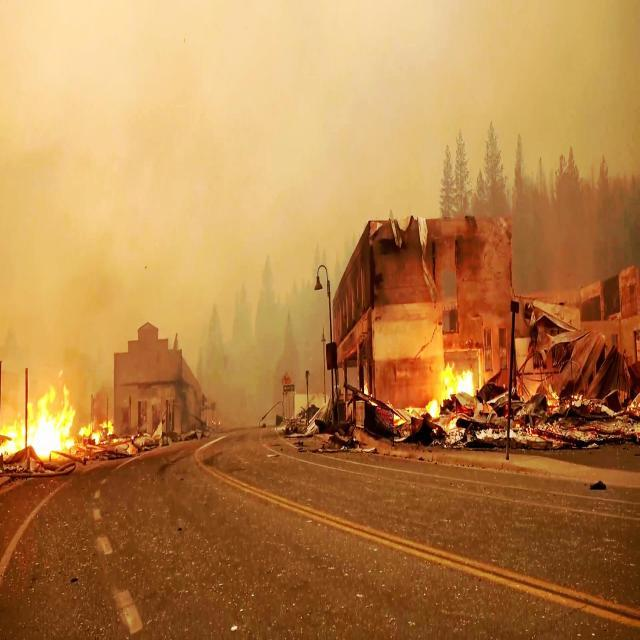Fire: (1, 372, 116, 465), (427, 367, 477, 423)
Smoke: (1, 0, 330, 372), (333, 2, 640, 291)
